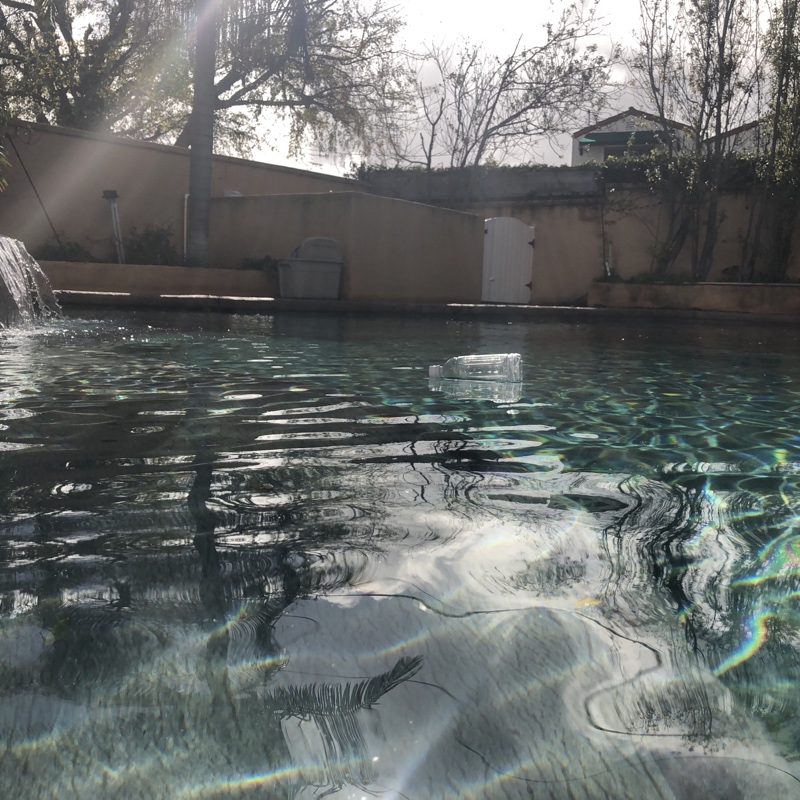Plastic Bottle: (425, 348, 523, 387)
